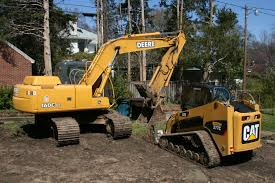excavator: (12, 31, 188, 146)
